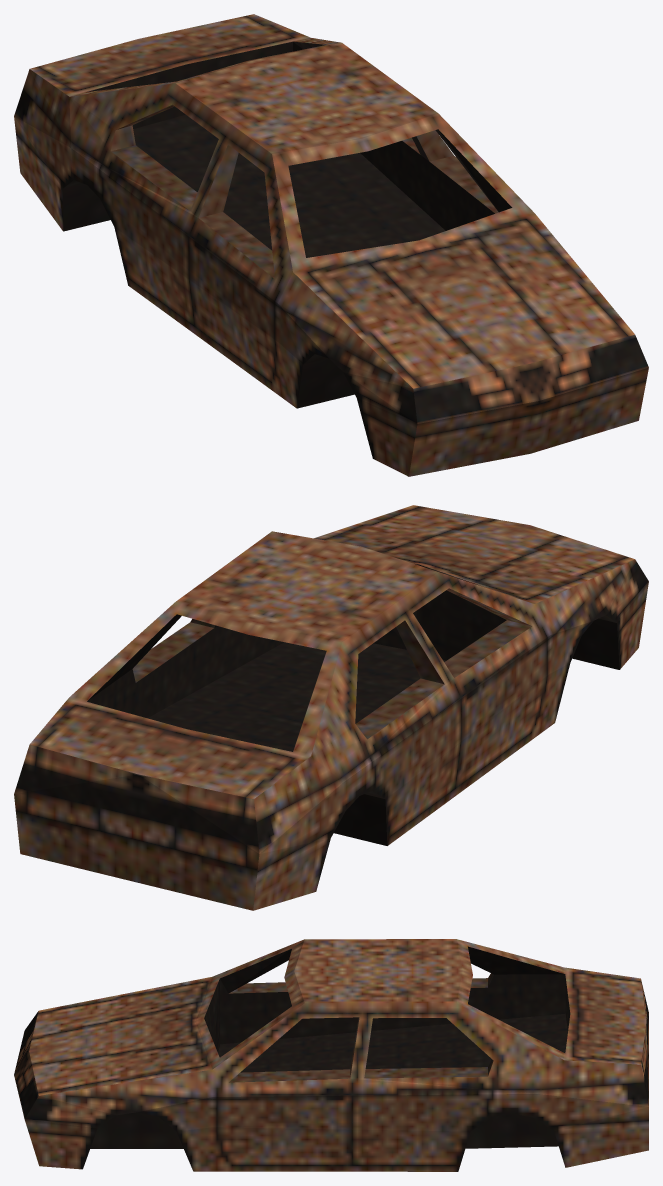
File: Car6.obj
The picture shows the model from 3 angles, top to bottom: view 1: azimuth 30°, elevation 25°; view 2: azimuth 150°, elevation 25°; view 3: azimuth 270°, elevation 25°; orthographic projection. The views are drawn at different scales.
Parts seen in each view (by area): view 1: Car6; view 2: Car6; view 3: Car6.
Part boxes in pixels (x1,y1,x2,y2): Car6: (14, 14, 648, 476); Car6: (14, 505, 648, 910); Car6: (14, 939, 648, 1171).
Bounding box in the file's own units: 2.48 × 1.67 × 6.36.
1 material, 1 textured.
